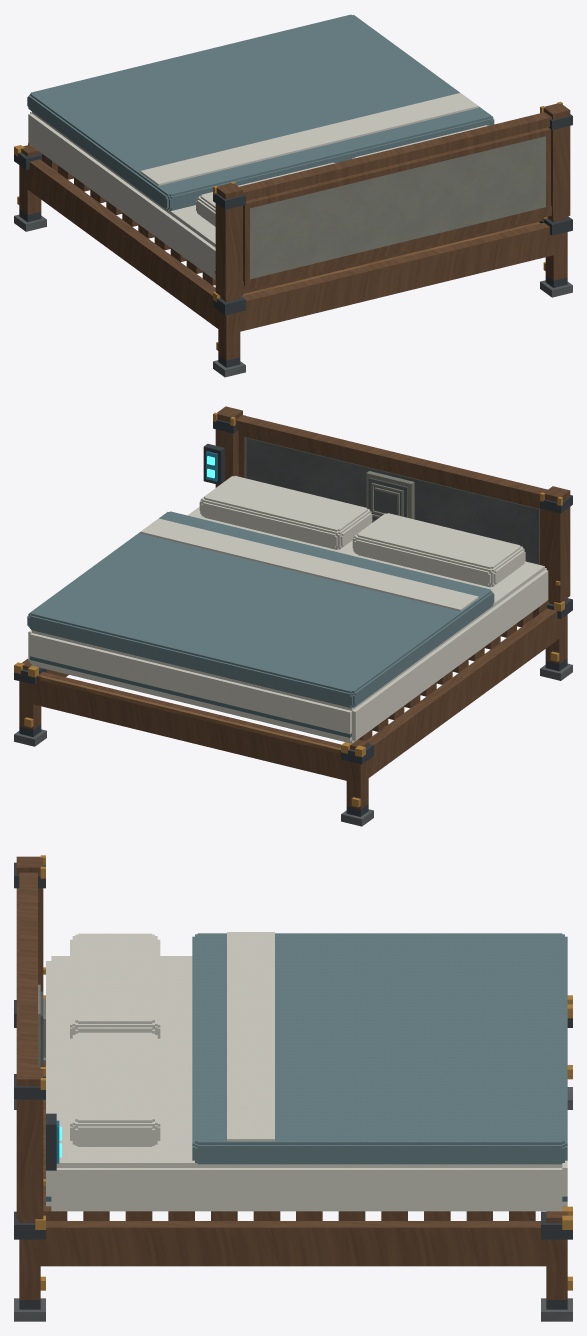
3 views of the same model, one above another, from view 1: azimuth 30°, elevation 25°; view 2: azimuth 150°, elevation 25°; view 3: azimuth 270°, elevation 25° (orthographic). The views are drawn at different scales.
Visible parts, largest first — view 1: 被褥及枕头组合, 床头靠板, 住宅床架, 床垫基础块; view 2: 被褥及枕头组合, 住宅床架, 床头靠板, 床垫基础块; view 3: 被褥及枕头组合, 床垫基础块, 住宅床架, 床头靠板.
Boxes of the visible parts, x1,y1,x2,y2 form: 被褥及枕头组合: [27, 14, 494, 226]; 床头靠板: [213, 101, 572, 299]; 住宅床架: [14, 143, 572, 377]; 床垫基础块: [28, 111, 215, 280]; 被褥及枕头组合: [27, 476, 525, 707]; 住宅床架: [14, 598, 572, 826]; 床头靠板: [203, 406, 572, 603]; 床垫基础块: [28, 507, 548, 743]; 被褥及枕头组合: [70, 932, 567, 1164]; 床垫基础块: [46, 956, 567, 1211]; 住宅床架: [14, 995, 572, 1321]; 床头靠板: [14, 855, 61, 1219].
Bounding box in the file's own units: 2.03 × 1 × 2.1.
11 materials, 11 textured.
